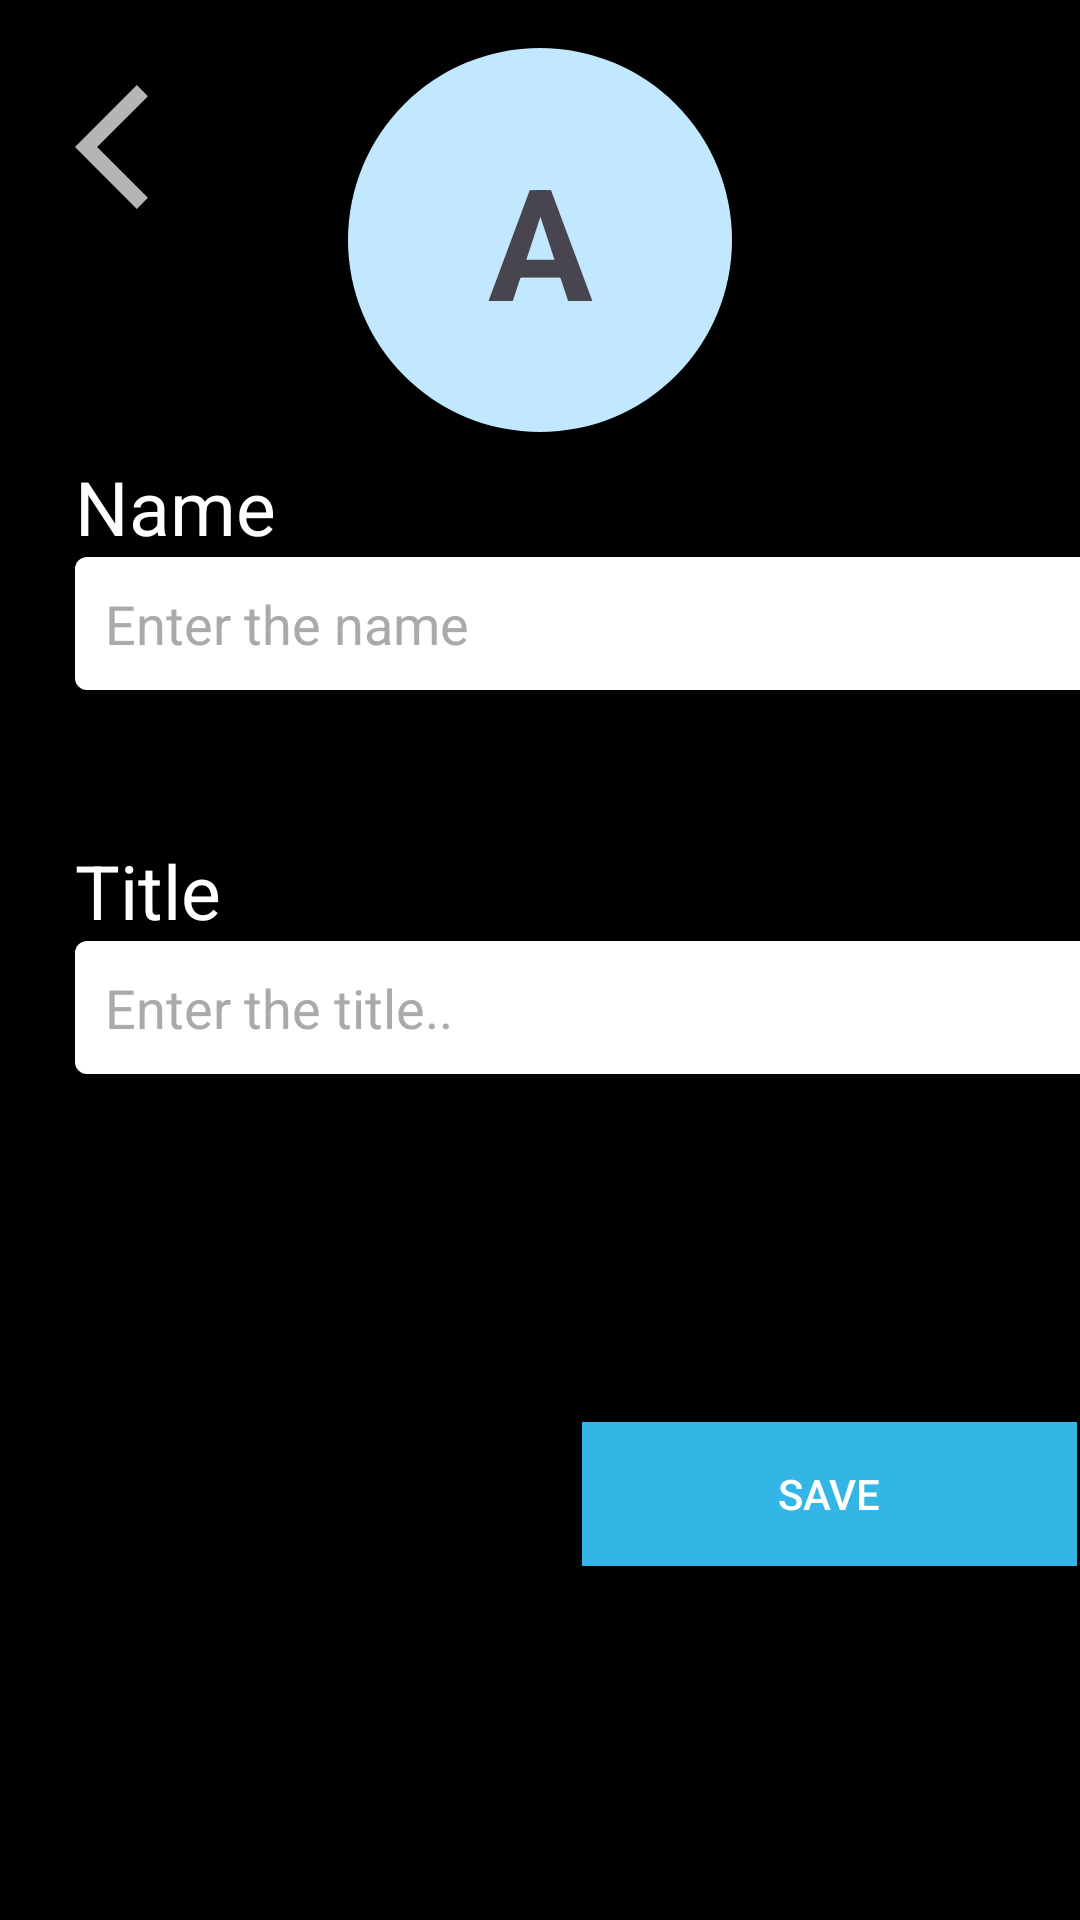

Where icons sit on this 1080px x 1920px app screen, as (x1=x1, y1=y1, x2=x2, y2=y2):
back: (x1=75, y1=85, x2=148, y2=209)
